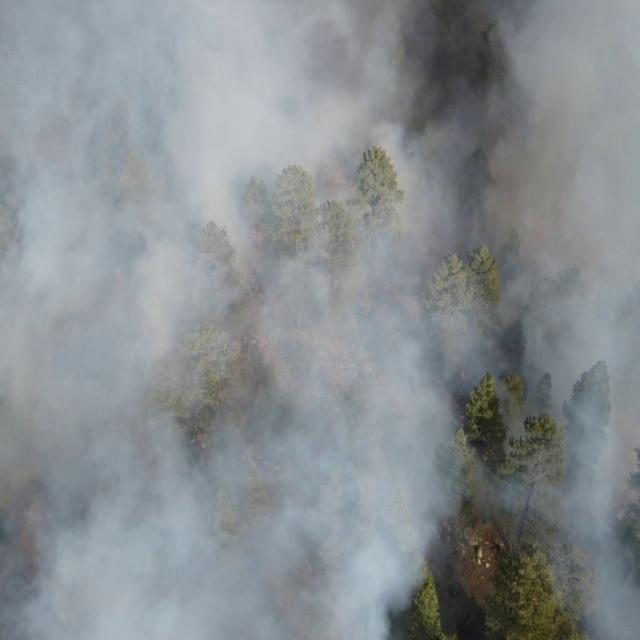smoke: (0, 0, 391, 640), (390, 0, 640, 518), (540, 517, 640, 640), (392, 516, 461, 608)
